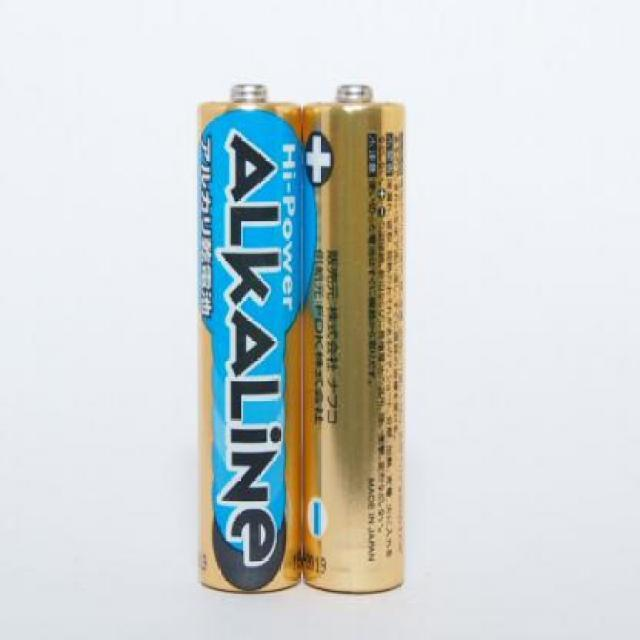hazardous waste: (190, 77, 304, 605), (302, 81, 409, 602)
